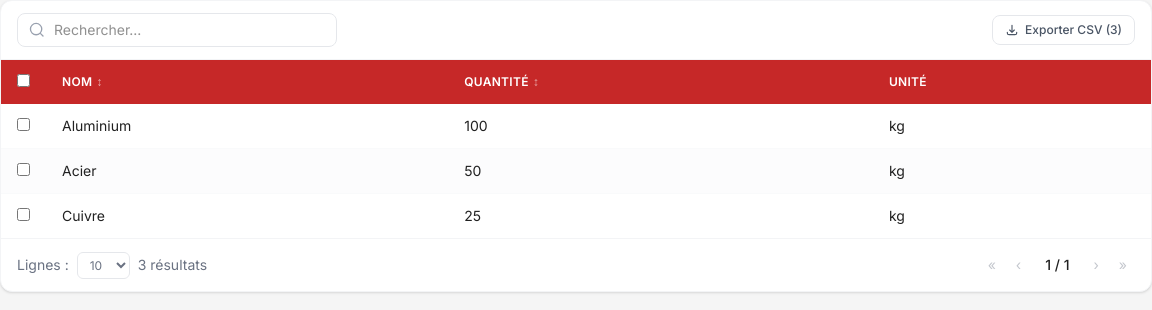
Scenario: Test 7 — tri par colonne ASC puis DESC au deuxième clic › premier clic → indicateur ↑ (ASC)
Click the column heading "Nom ↕" at {"x": 77, "y": 82}, box [46, 60, 448, 104]
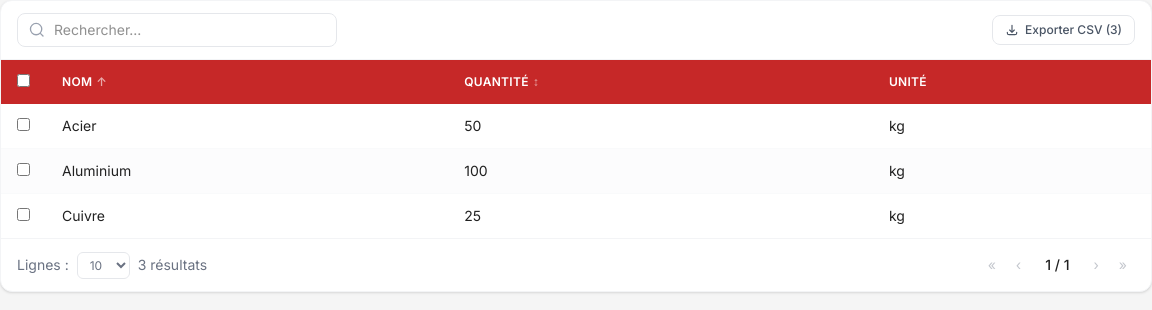
Expected: the text "↑" is shown, [96, 74, 107, 90]
